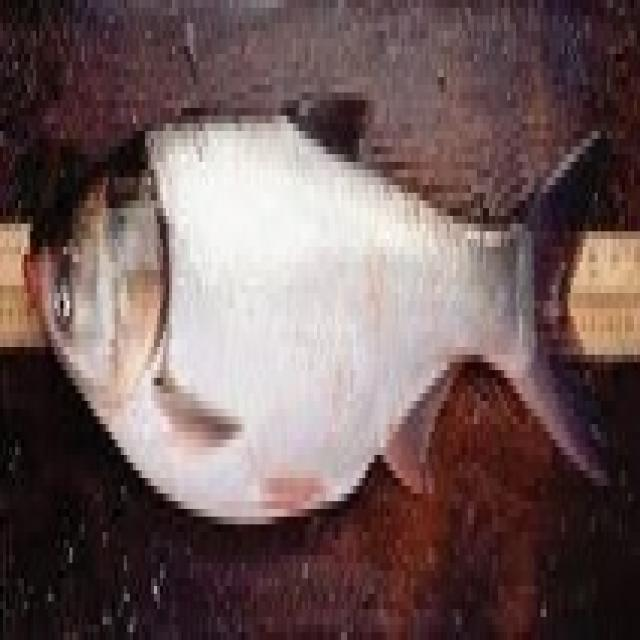Big-Head-Carp: (14, 48, 632, 590)
